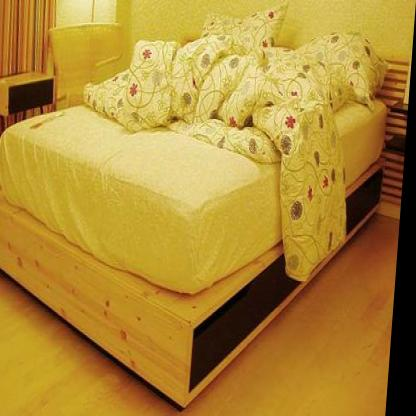Bed: (0, 11, 397, 401)
